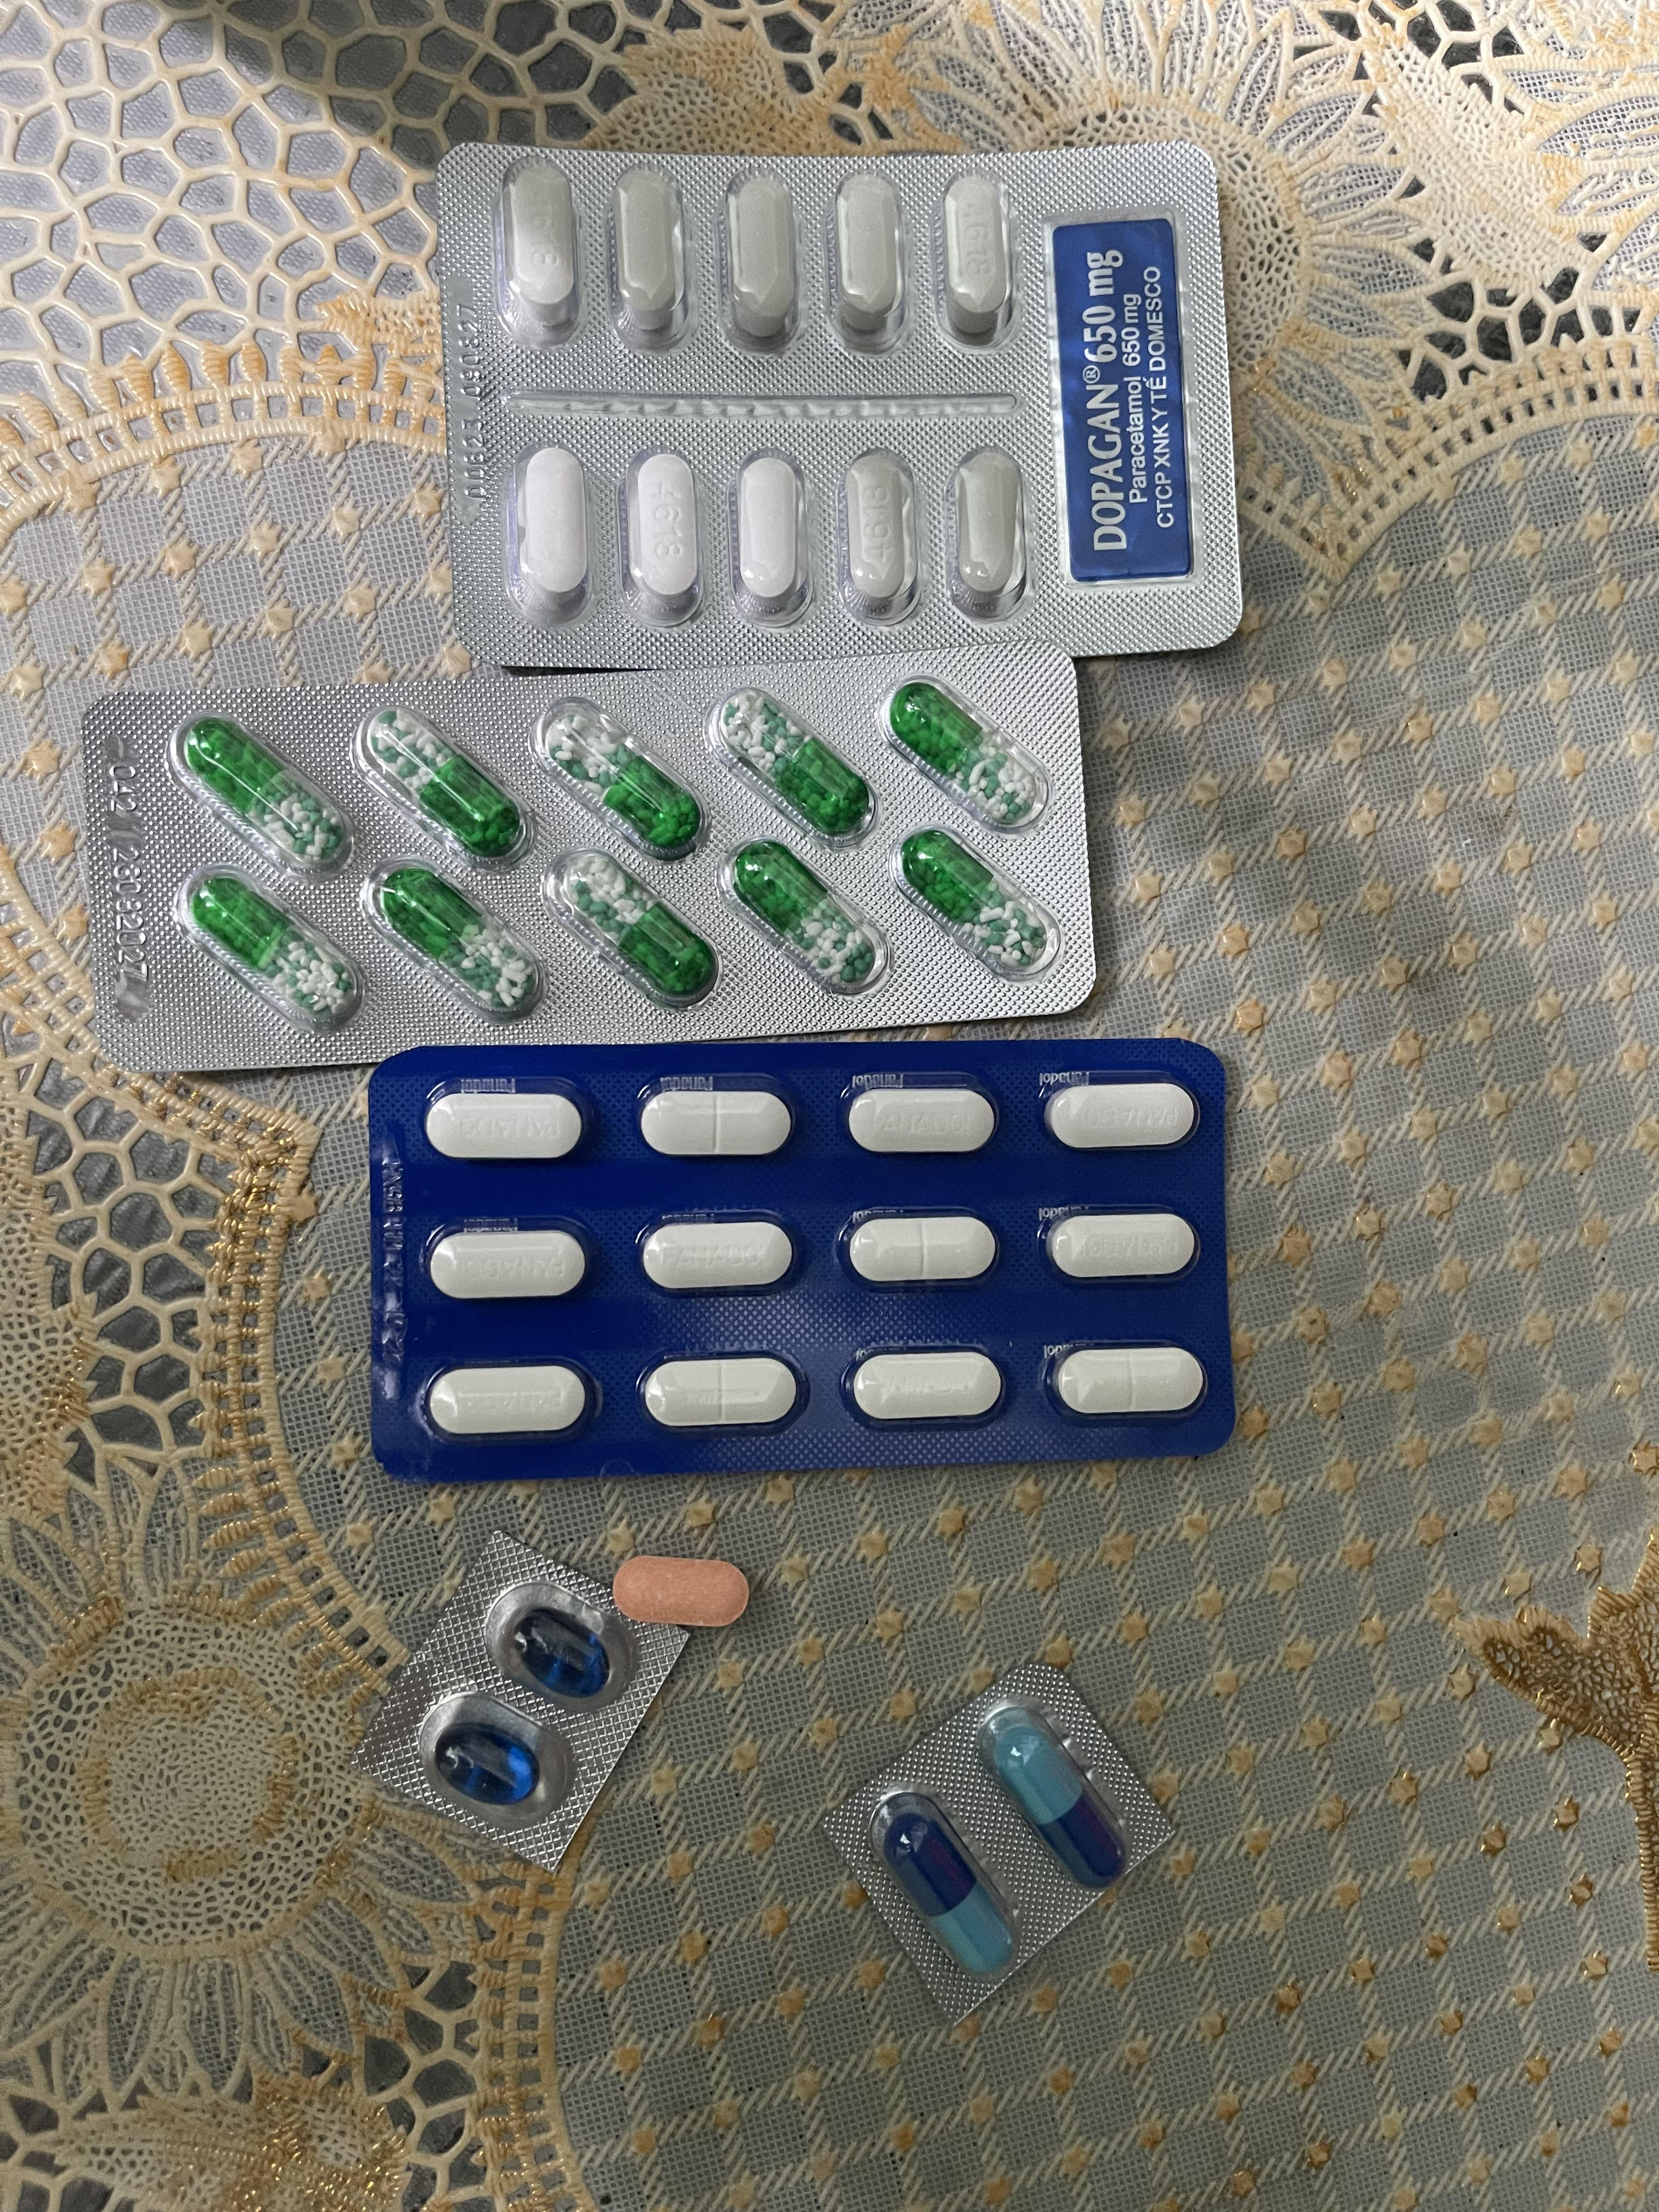Lincomyxin_500mg: (509, 1608, 615, 1698), (436, 1724, 540, 1804)
Loratadine_10mg: (612, 1557, 751, 1630)
Paracetamol_350mg: (423, 1360, 592, 1440), (640, 1353, 803, 1432), (636, 1076, 795, 1157), (425, 1224, 589, 1301), (840, 1207, 999, 1285), (425, 1089, 587, 1163), (845, 1350, 1006, 1425), (640, 1217, 798, 1292), (1049, 1345, 1201, 1418), (845, 1085, 999, 1157), (1049, 1211, 1201, 1280), (1046, 1082, 1195, 1151)
Paracetamol_500mg: (505, 446, 592, 629), (497, 158, 580, 347), (728, 446, 812, 624), (936, 167, 1016, 352), (830, 169, 910, 352), (946, 446, 1028, 624), (624, 449, 706, 624), (838, 451, 920, 625), (721, 169, 800, 350), (613, 160, 687, 341)
Paracetamol_650mg: (174, 864, 362, 1033), (171, 714, 352, 880), (356, 700, 533, 867), (713, 685, 880, 846), (720, 834, 889, 995), (551, 850, 714, 993), (378, 867, 537, 1007), (545, 709, 702, 848), (901, 831, 1047, 972), (892, 685, 1042, 822)
pill: (979, 1703, 1127, 1888), (875, 1789, 1018, 1973)
